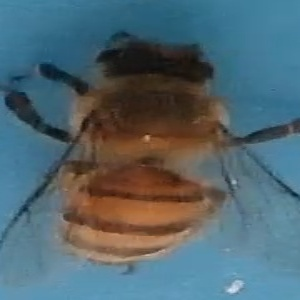bee: (25, 35, 243, 276)
